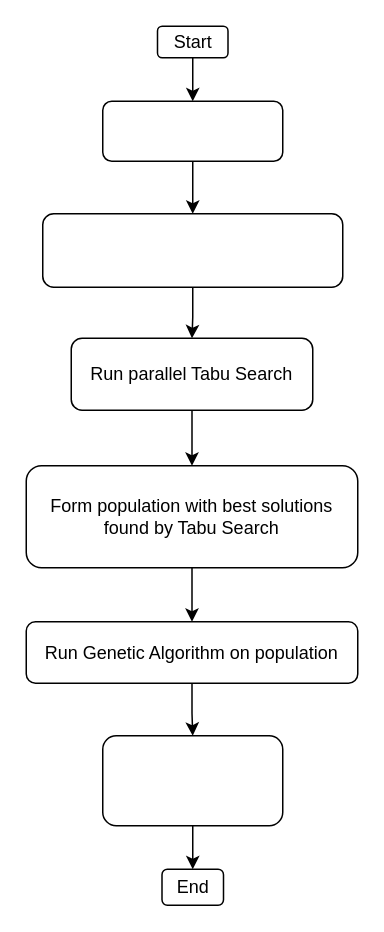
The diagram is 384 pixels wide and 932 high, and some of its shapes have lost their labels. The shapes that lost their labels are listed below. From the top down, each one's centre as x and y in pixels, then its label:
At pixel 192 130: "Get parameters & static data".
At pixel 192 249: "Generate initial feasible solutions".
At pixel 192 780: "Create schedule for best solution".
